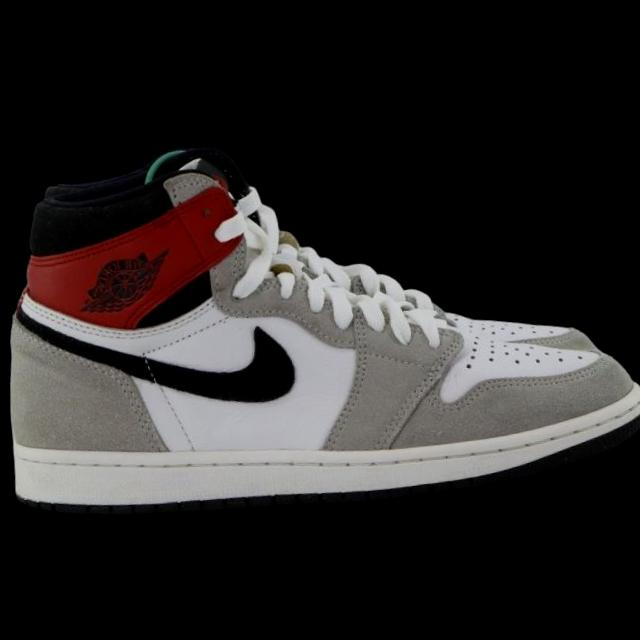nike_original_jordan: (0, 114, 640, 531)
